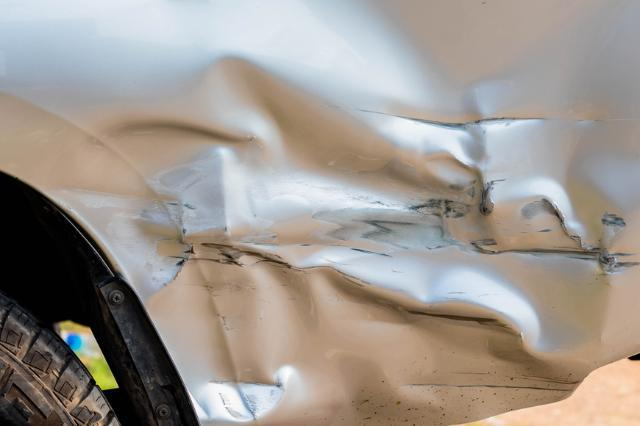Bumper: (83, 26, 640, 411)
